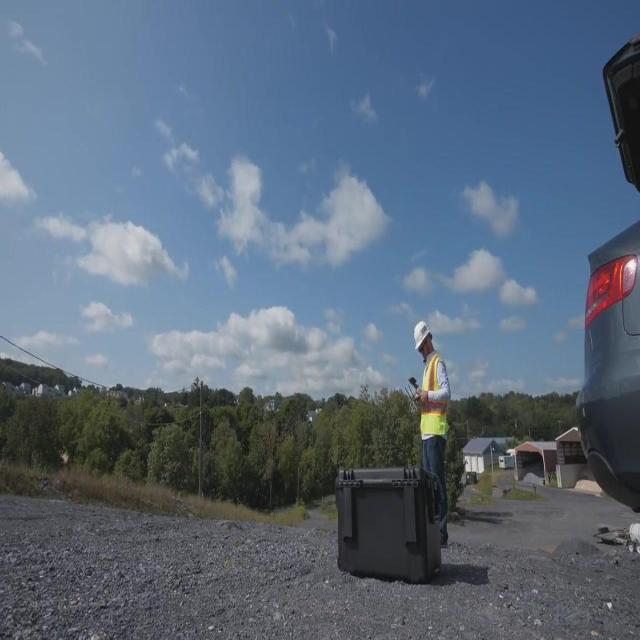Vest: (419, 354, 450, 436)
